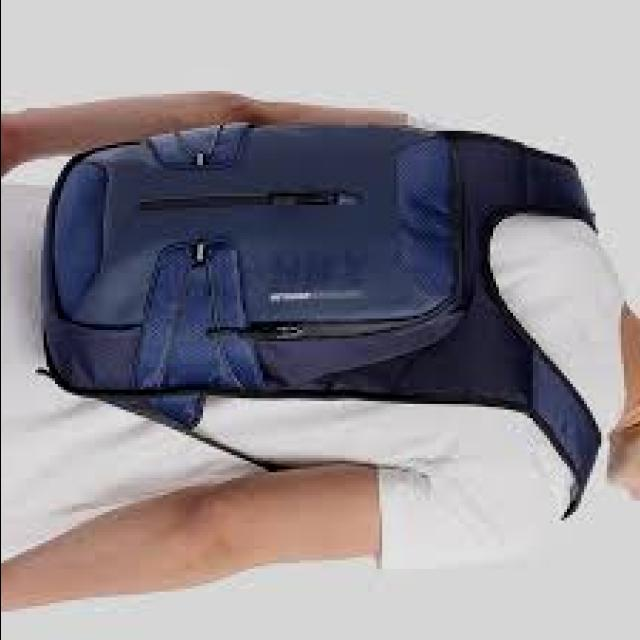backpack: (41, 121, 607, 522)
